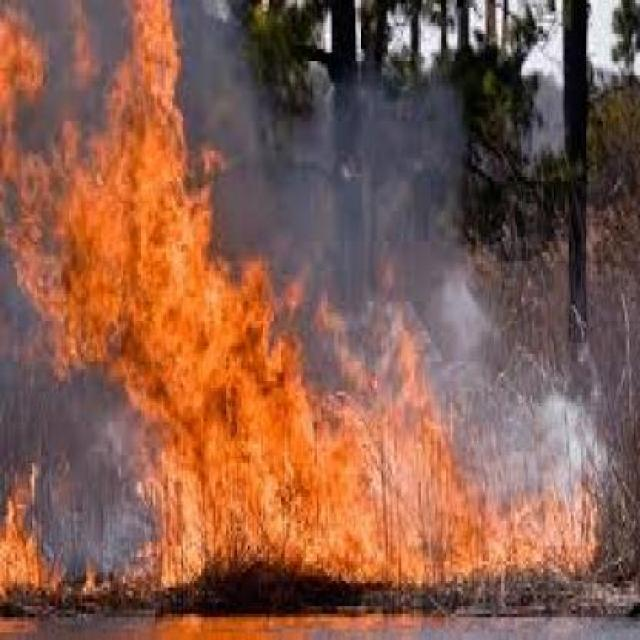Fire: (8, 114, 412, 614), (289, 325, 626, 608)
